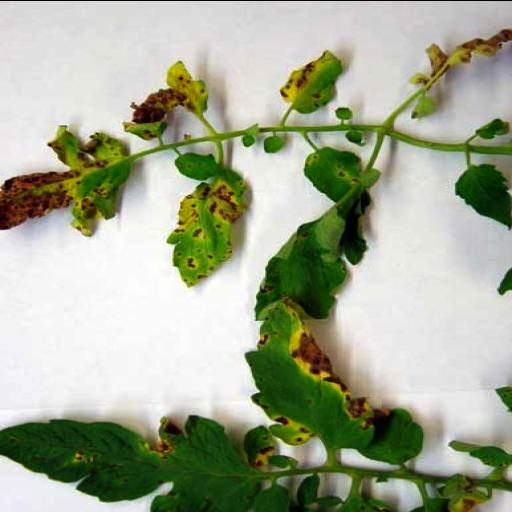disease_tomato: (0, 412, 274, 512), (240, 298, 380, 452), (2, 126, 136, 243), (249, 193, 370, 321), (165, 169, 253, 287), (276, 48, 348, 114), (304, 148, 366, 210), (156, 55, 213, 115)
